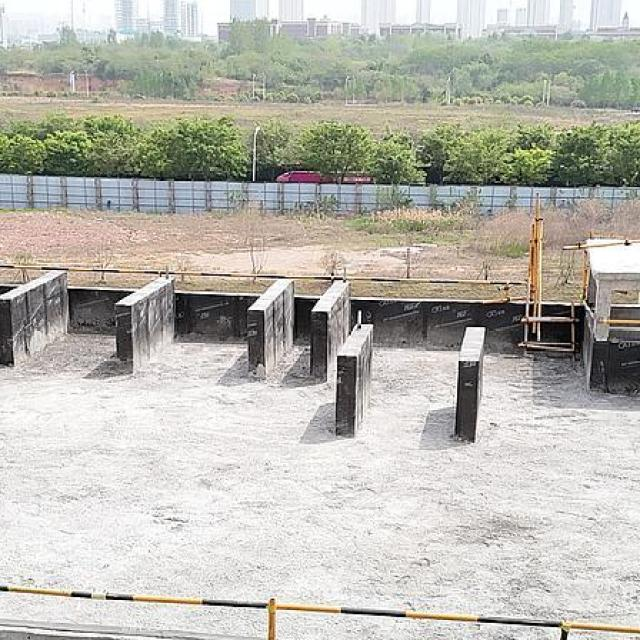edge_guardrail: (0, 584, 640, 640), (0, 263, 529, 298), (581, 299, 640, 338)
